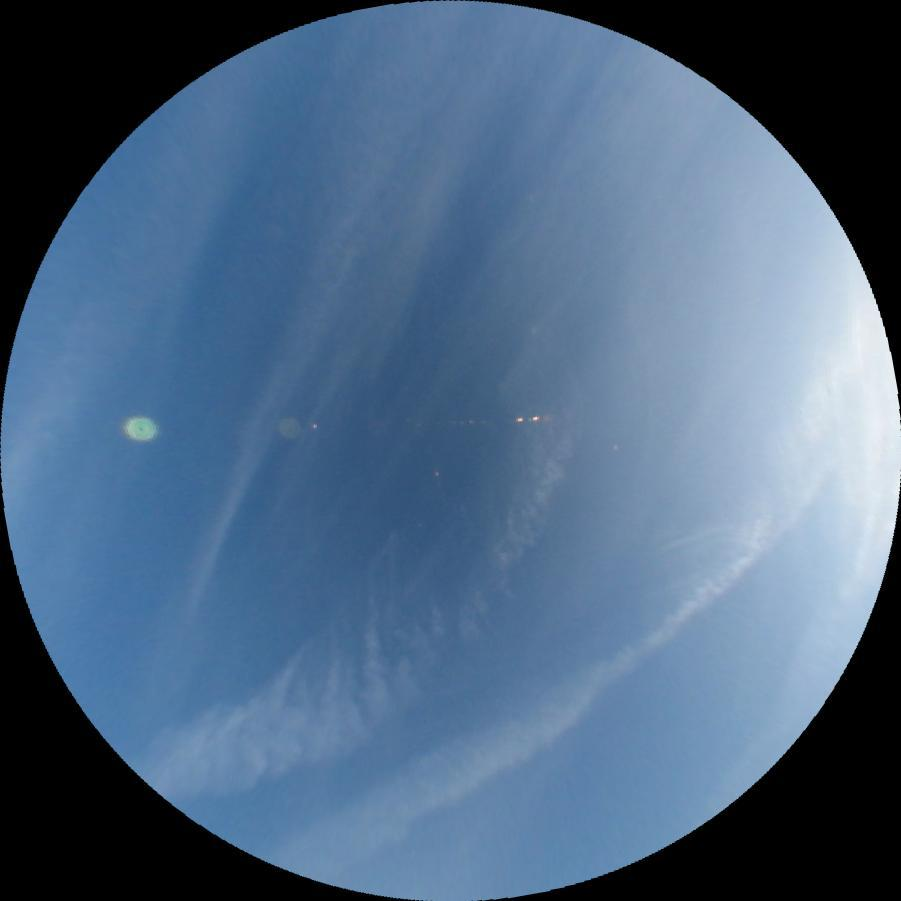contrail veryold: (122, 314, 673, 878), (266, 429, 846, 901)
